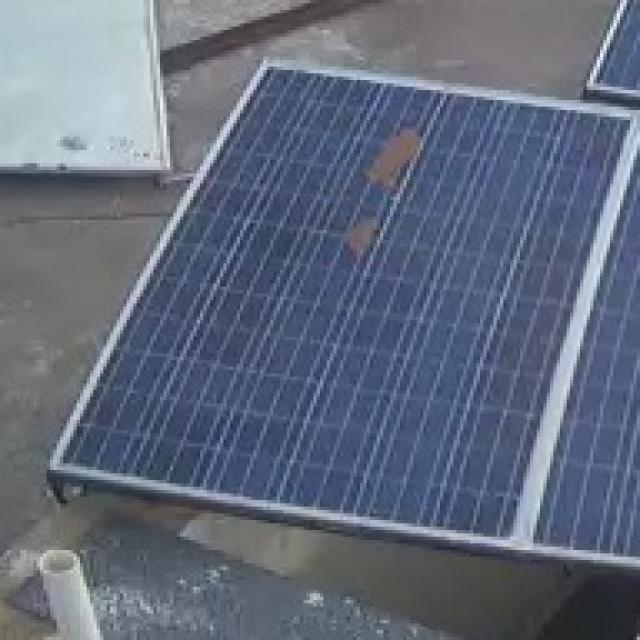Dusty: (359, 119, 418, 191), (334, 208, 384, 254)
